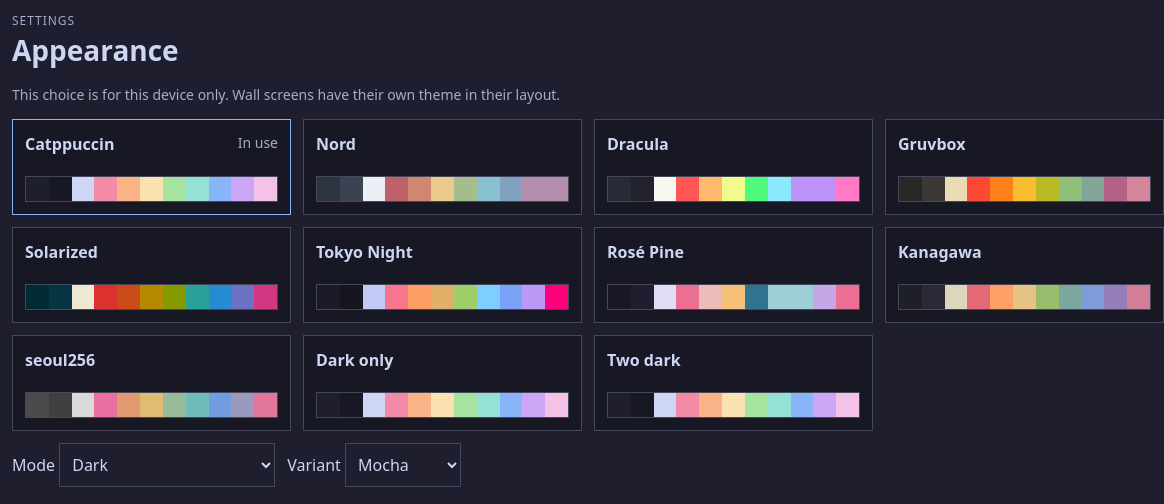
it: Appearance page › hides the mode control for a single-variant family and says why
What coordinates should you click on to do the following:
click the button "Dark only"
I would click on:
 (442, 370)
Its box is [316, 348, 569, 392].
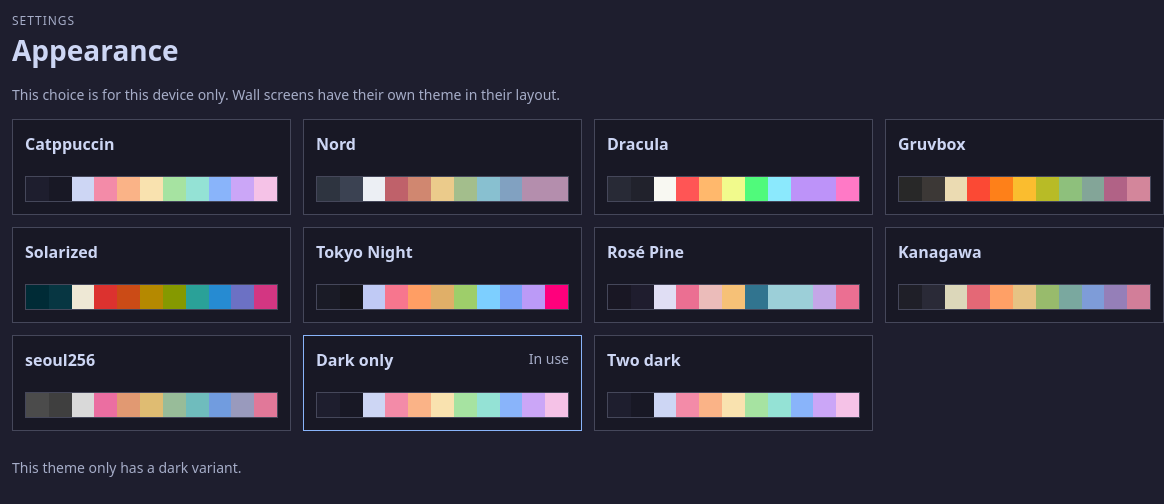
Expected: the text with test id "mode-note" shows "dark variant", [12, 458, 242, 477]
